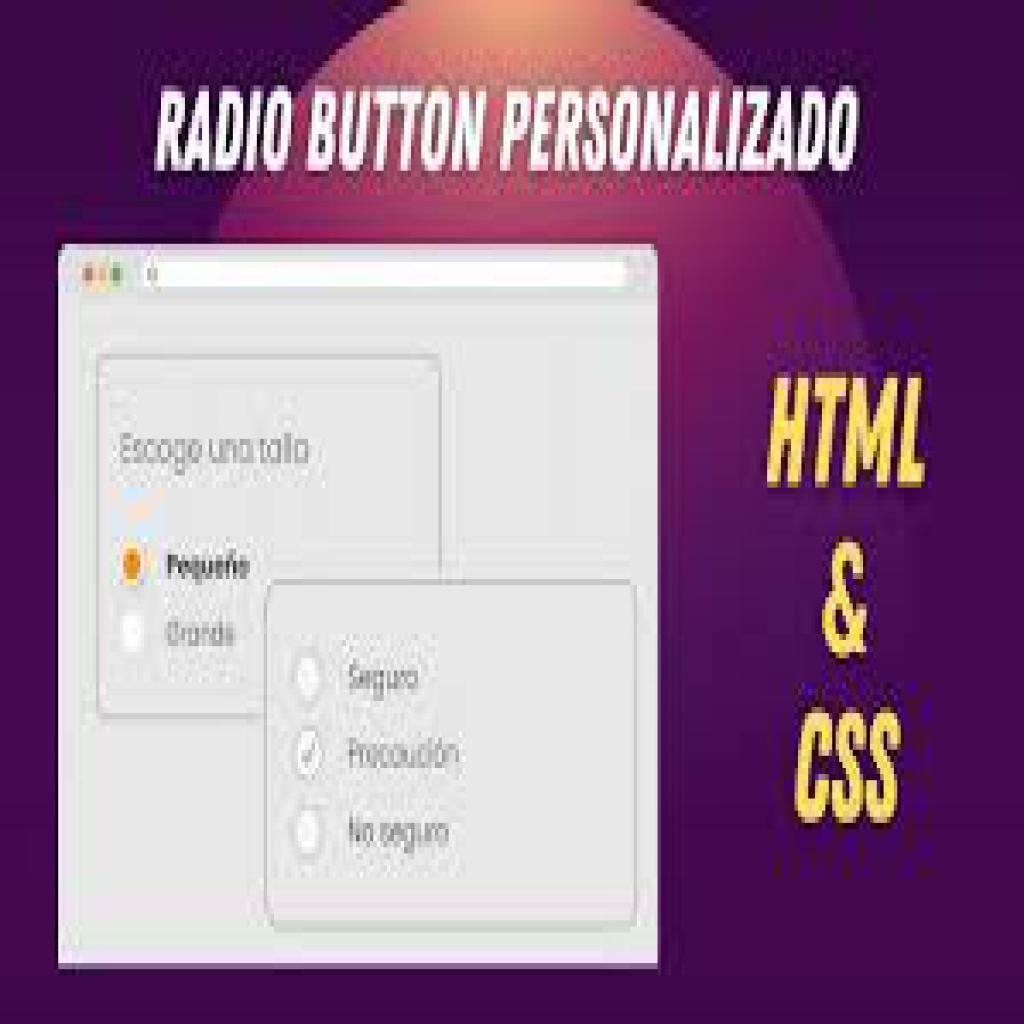radio: (291, 807, 329, 861), (290, 651, 329, 703), (291, 728, 326, 781), (117, 540, 151, 588), (120, 614, 150, 657)
